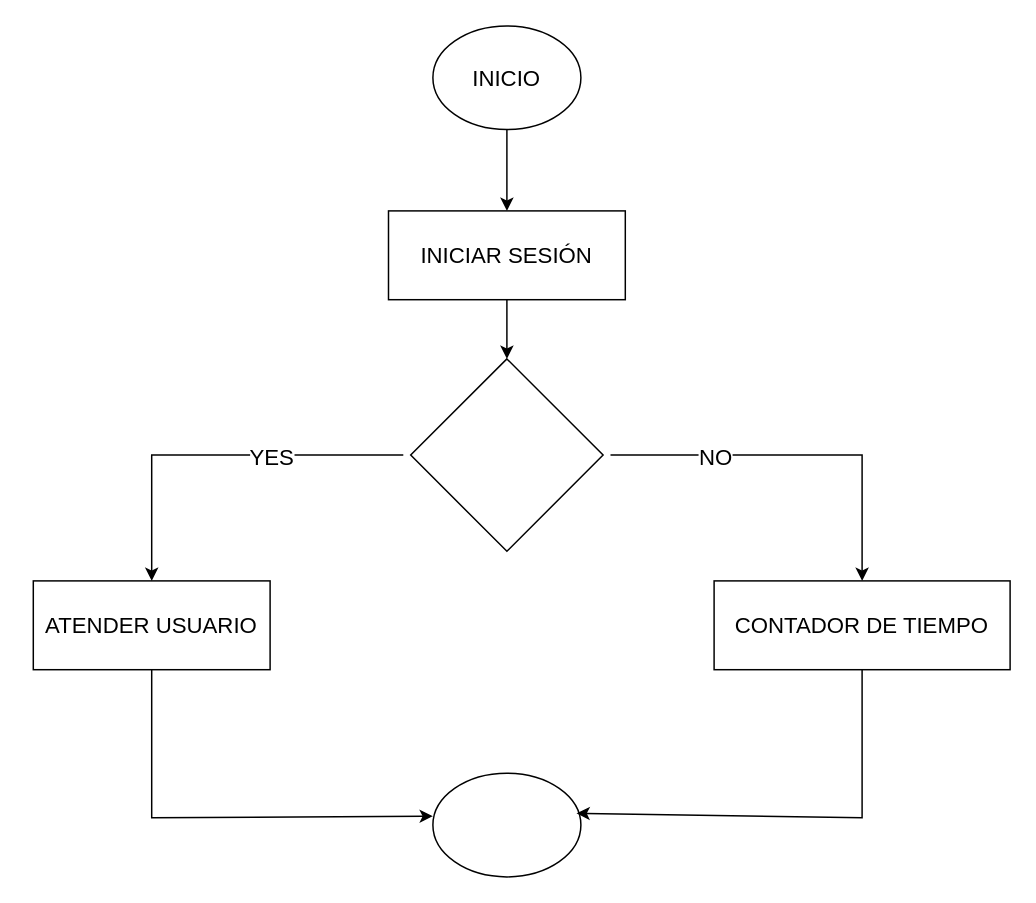
This 1036x903 diagram has some shape labels left out. The centre of each missing label's shape, as x and y in pixels:
"FIN" goes at point 506,824.
"GESTIONAR TURNOS" goes at point 506,454.
